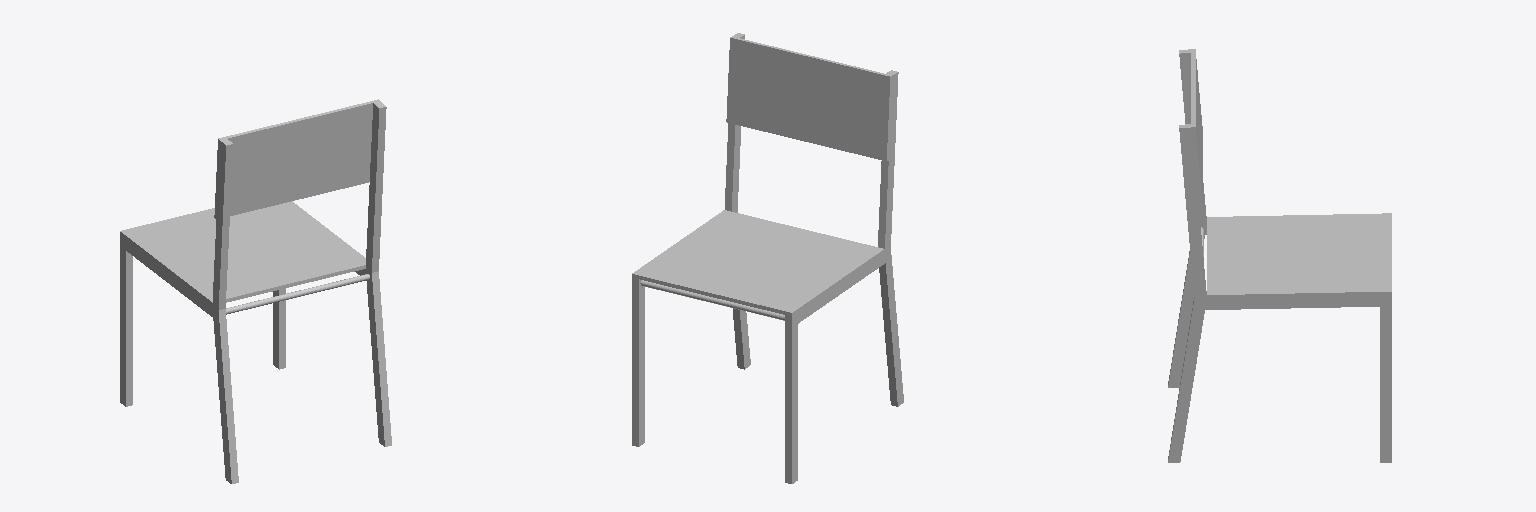
Rendered from sedia.obj.
3 views of the same model, side by side, from view 1: azimuth 30°, elevation 25°; view 2: azimuth 150°, elevation 25°; view 3: azimuth 270°, elevation 25° (orthographic).
Size of the model in its own units: 0.45 by 0.9008 by 0.5448.